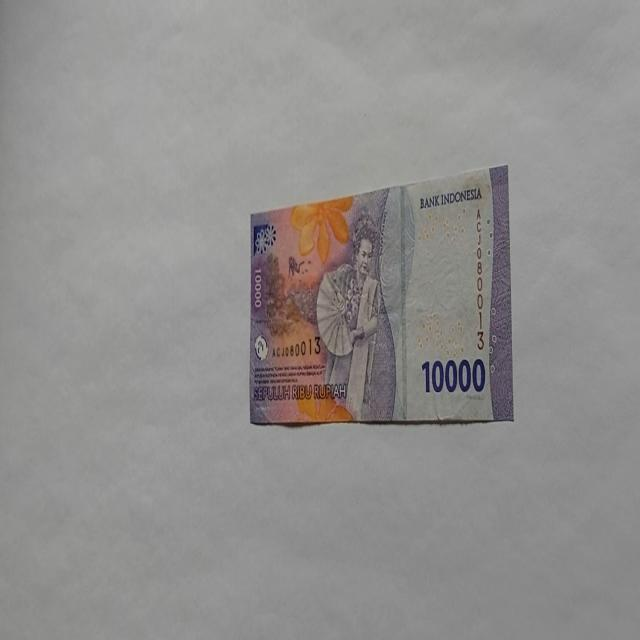sepuluh ribu rupiah: (247, 162, 514, 428), (418, 185, 483, 210)
